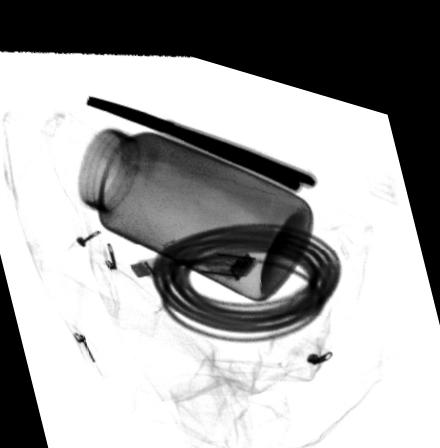Pliers: (85, 90, 319, 178)
